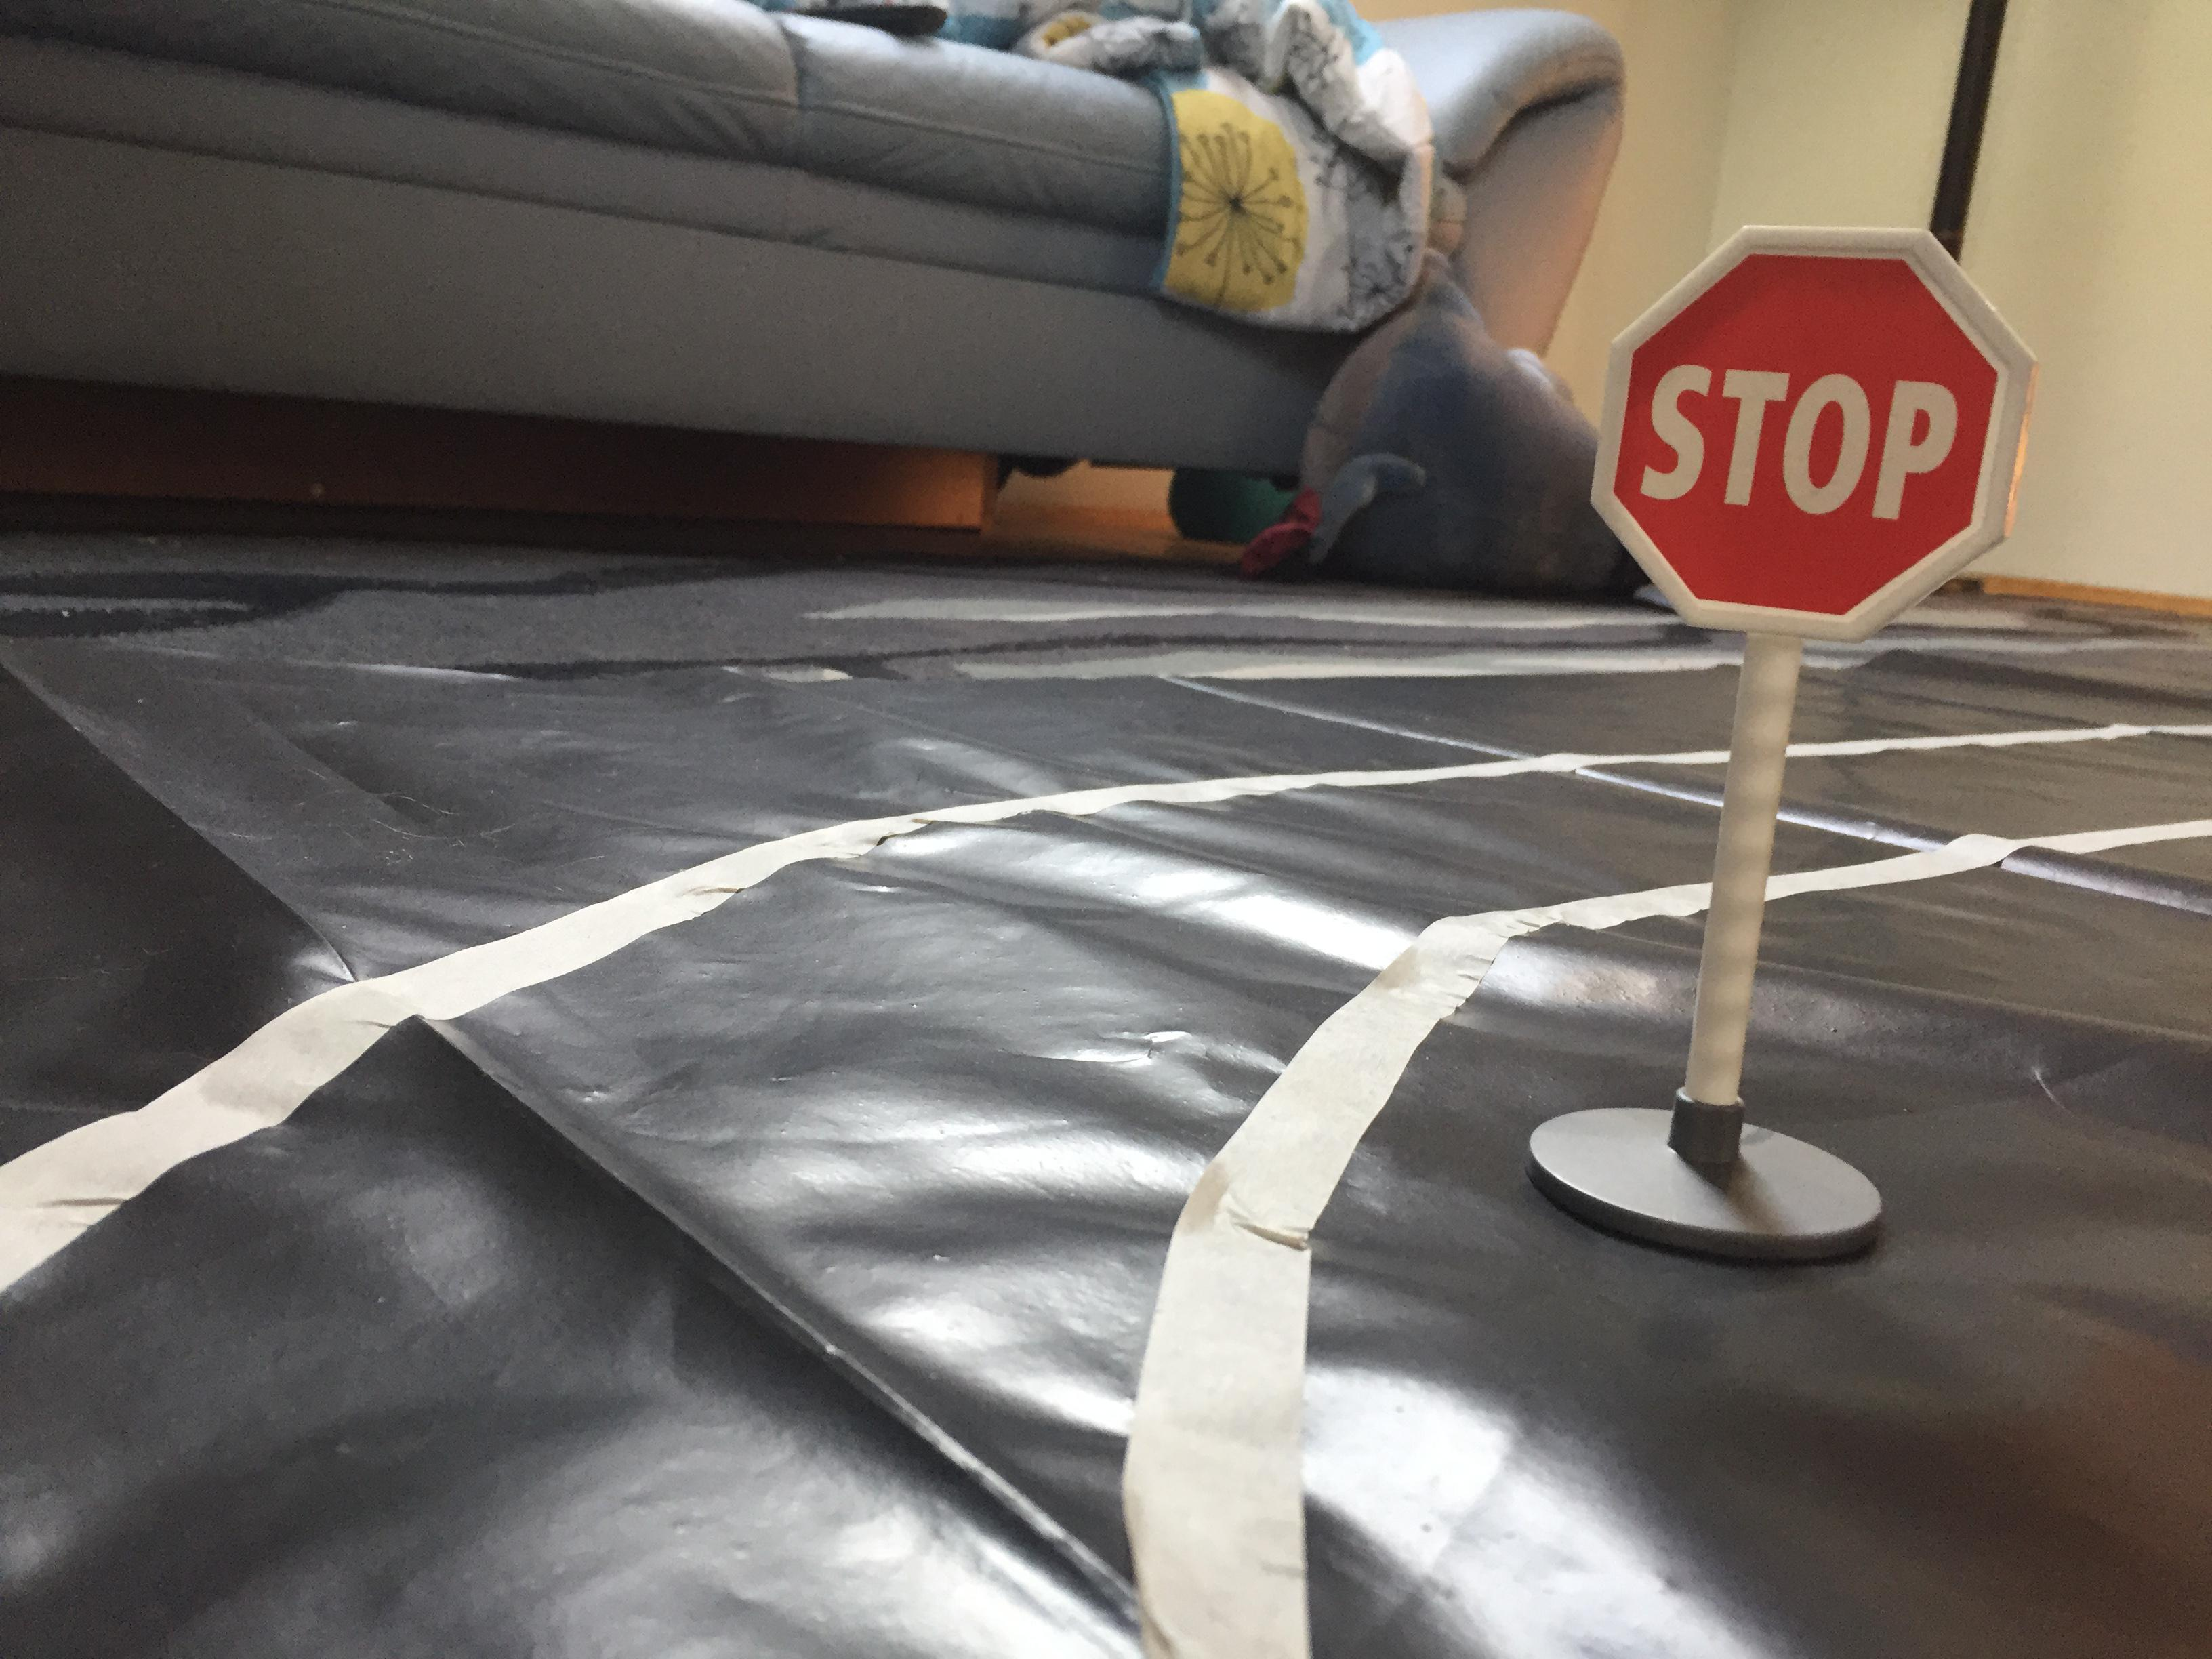stop: (1568, 213, 2057, 647)
